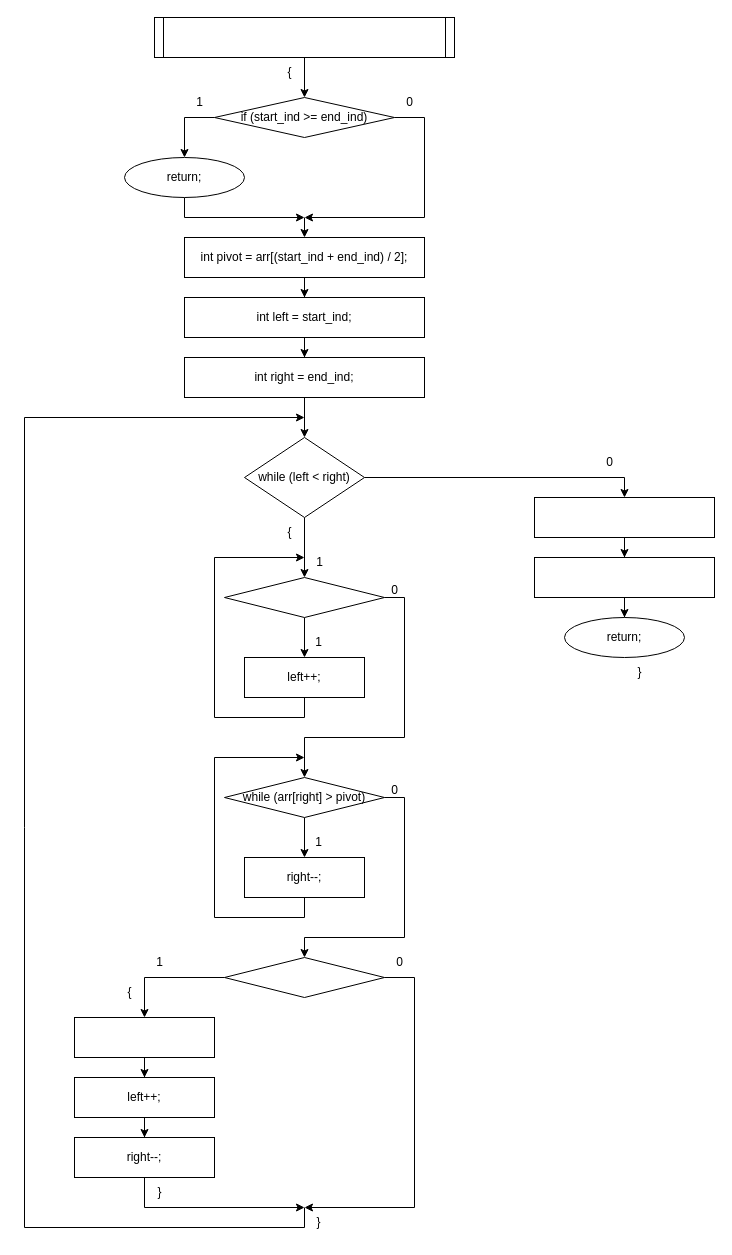
Some shapes in this 732 by 1255 pixel diagram are drawn without their labels. Here are the shapes that lost their labels. From the top down, the centre of each, then its label:
At point 304,37: "void hoare_sort(int* arr, int start_ind, int end_ind)".
At point 624,517: "hoare_sort(arr, start_ind, right);".
At point 304,597: "while (arr[left] < pivot)".
At point 624,577: "hoare_sort(arr, left, end_ind);".
At point 304,977: "if (left <= right)".
At point 144,1037: "swap(arr[left], arr[right]);".
